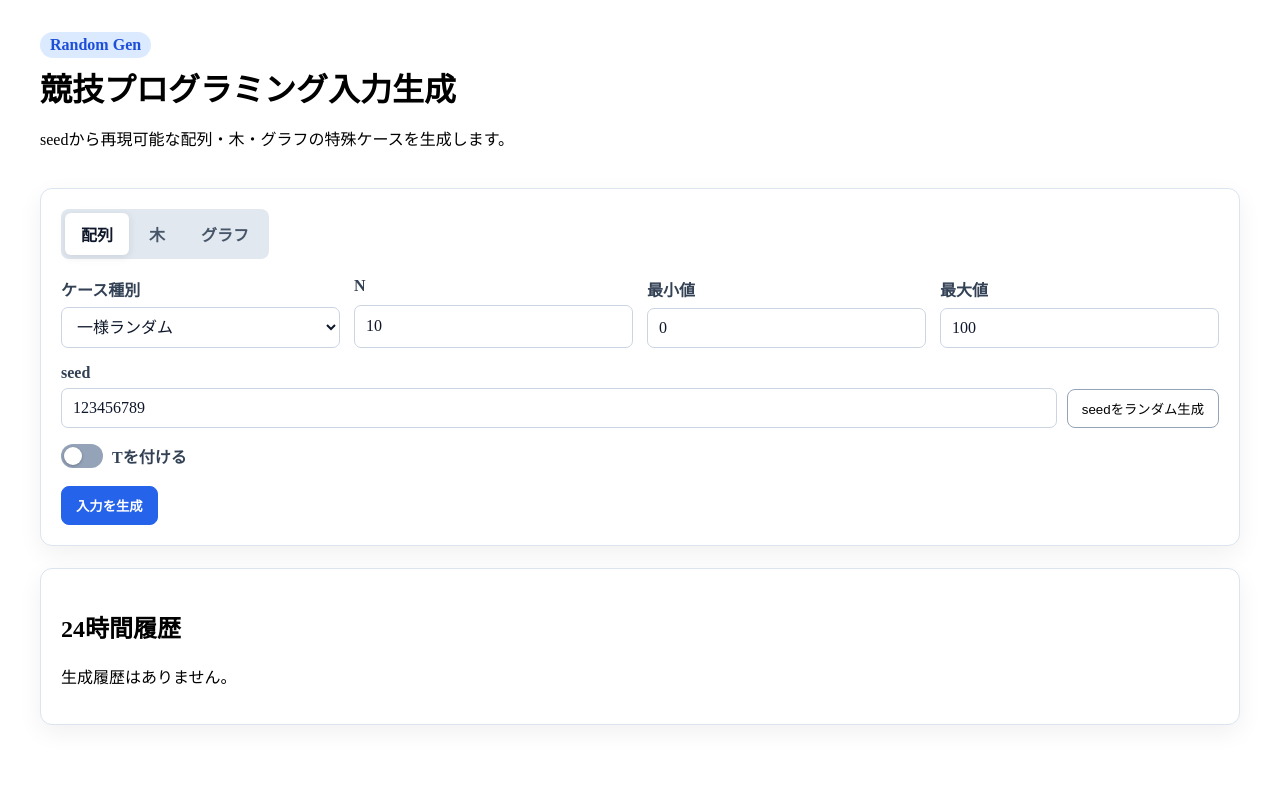
Test: generates a case and stores only its recipe in guest history
Click the button "入力を生成" at [109, 506], box [61,486,158,525]
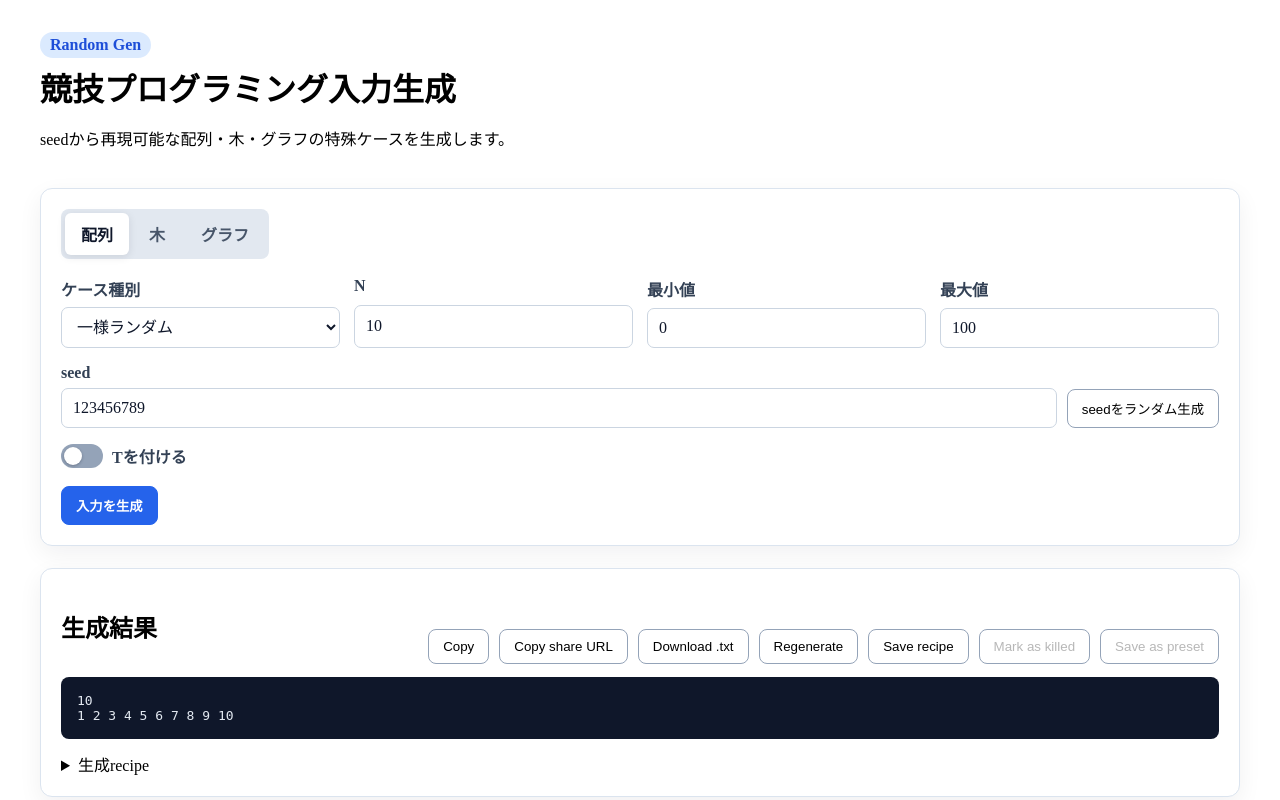
Expected: the heading "生成結果" is shown, [61,609,157,644]
